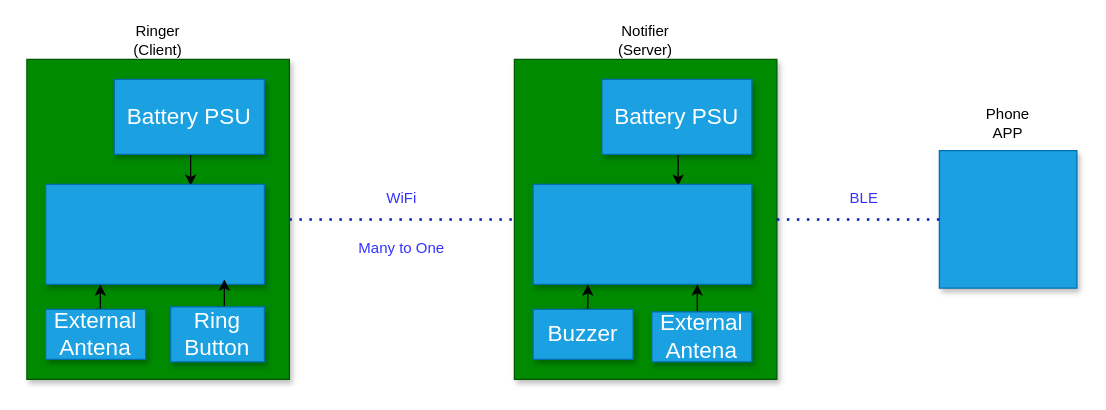
Some shapes in this 1106 by 410 pixel diagram are drawn without their labels. Each missing label, with the centre of its shape:
"Android service that notifies user on phone" belongs at pixel 1008 220.
"ESP32" belongs at pixel 643 235.
"ESP8266" belongs at pixel 155 235.
